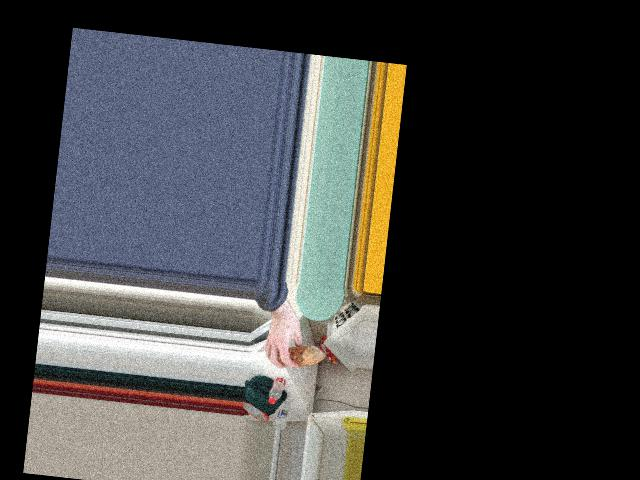sweet_potato: (282, 347, 316, 366)
